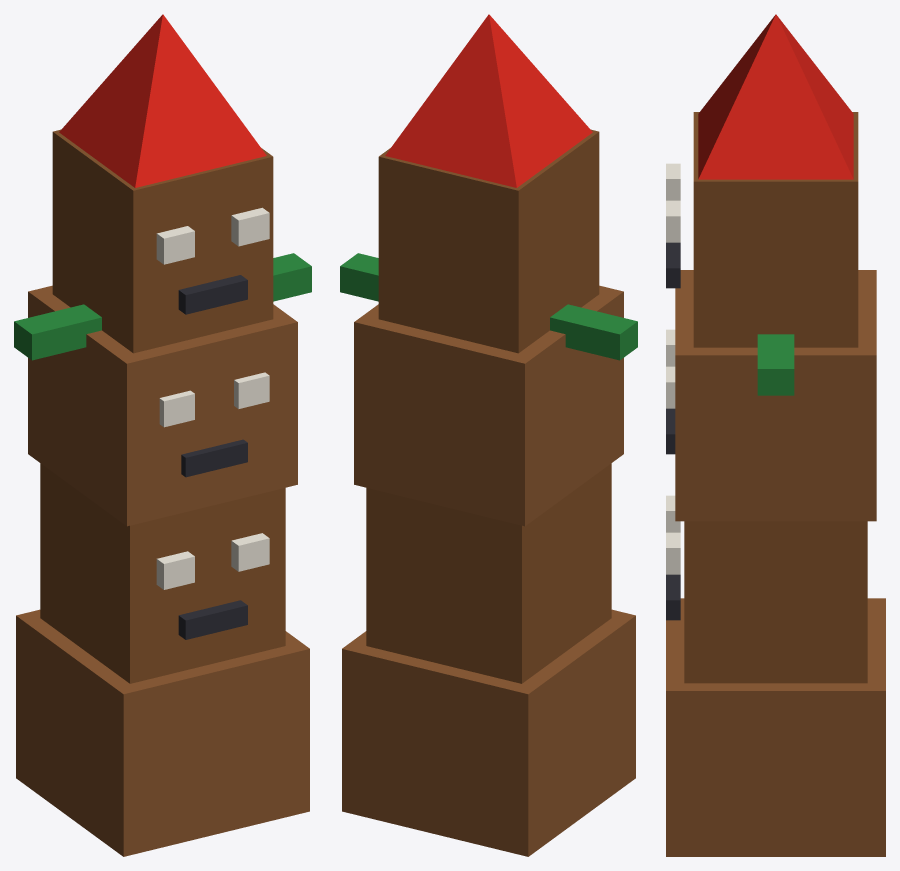
File: tiki_totem.glb
The picture shows the model from 3 angles, left to right: view 1: azimuth 30°, elevation 25°; view 2: azimuth 150°, elevation 25°; view 3: azimuth 270°, elevation 25°; orthographic projection. The views are drawn at different scales.
Parts seen in each view (by area): view 1: tiki_totem; view 2: tiki_totem; view 3: tiki_totem.
Part boxes in pixels (<box>): tiki_totem: <box>14,14,311,856</box>; tiki_totem: <box>340,14,637,856</box>; tiki_totem: <box>666,14,885,856</box>.
Bounding box in the file's own units: 0.9 × 2.4 × 0.6.
